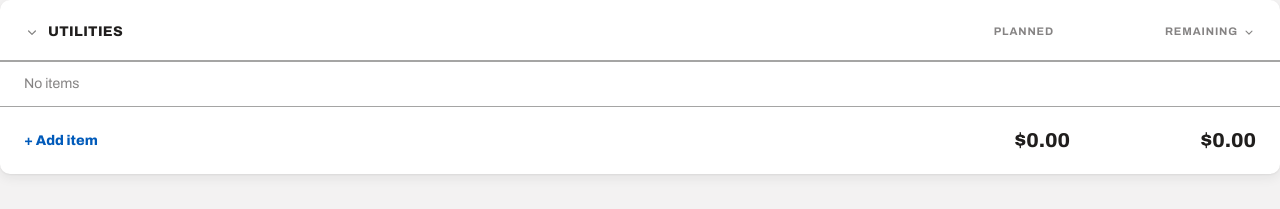
Test case: BudgetGroupCard draft re-sync › seeds the name editor from the latest prop after an in-place rename
Click the heading "Utilities": (86, 32) left=48, top=22, right=123, bottom=42
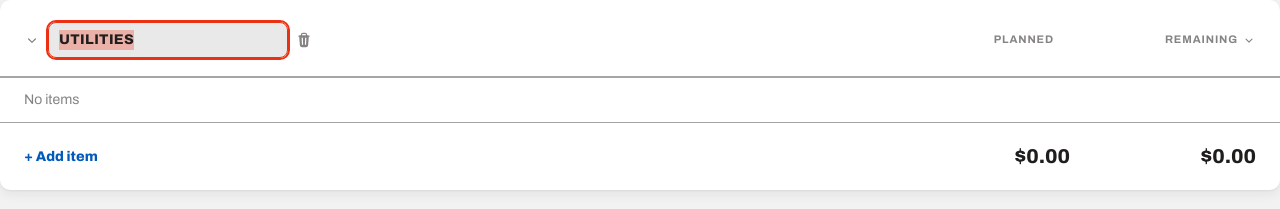
Result: the field holds "Utilities" at left=48, top=22, right=288, bottom=58
